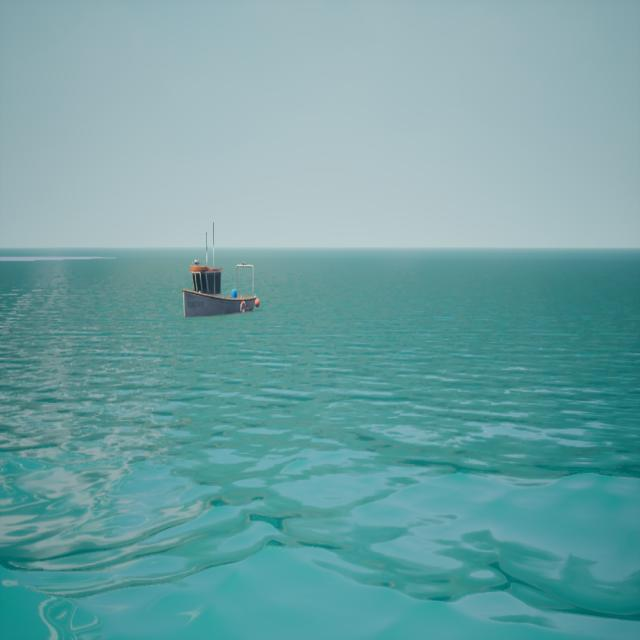ship: (184, 242, 260, 321)
